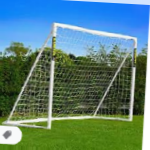goals: (2, 18, 138, 131)
